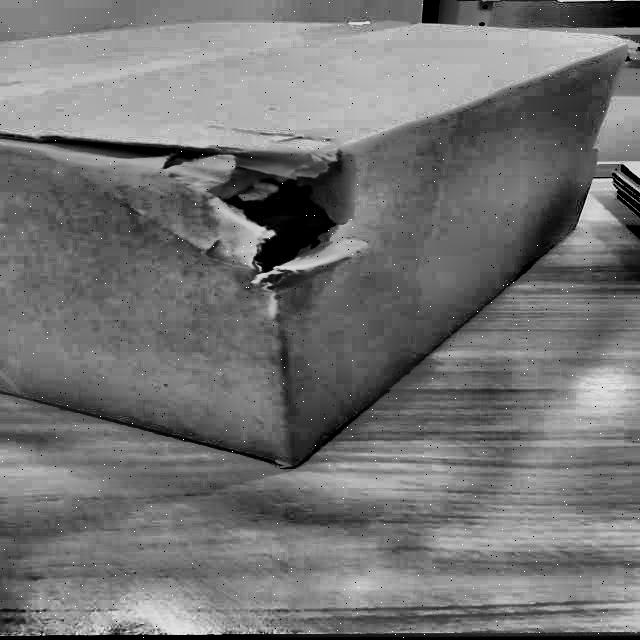box: (1, 16, 635, 480)
hole: (39, 137, 360, 257)
